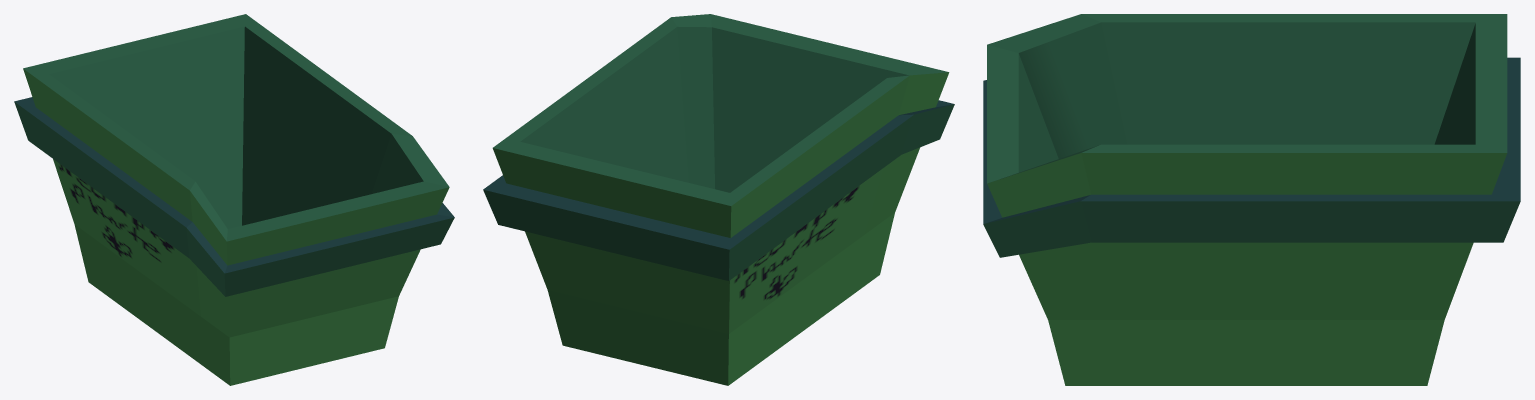
Rendered from Cacamba.fbx.
The picture shows the model from 3 angles, left to right: view 1: azimuth 30°, elevation 25°; view 2: azimuth 150°, elevation 25°; view 3: azimuth 270°, elevation 25°; orthographic projection. The views are drawn at different scales.
Parts seen in each view (by area): view 1: cacamba; view 2: cacamba; view 3: cacamba.
Boxes of the visible parts, x1=… form: cacamba: x1=14, y1=14, x2=454, y2=385; cacamba: x1=483, y1=14, x2=954, y2=385; cacamba: x1=983, y1=14, x2=1520, y2=385.
Bounding box in the file's own units: 128 × 202 × 106.
